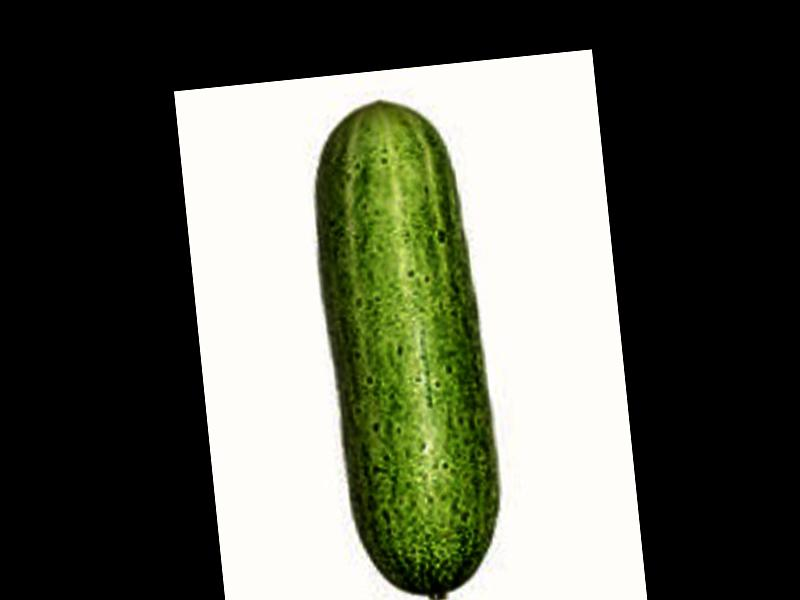Cucumber: (307, 92, 508, 600)
